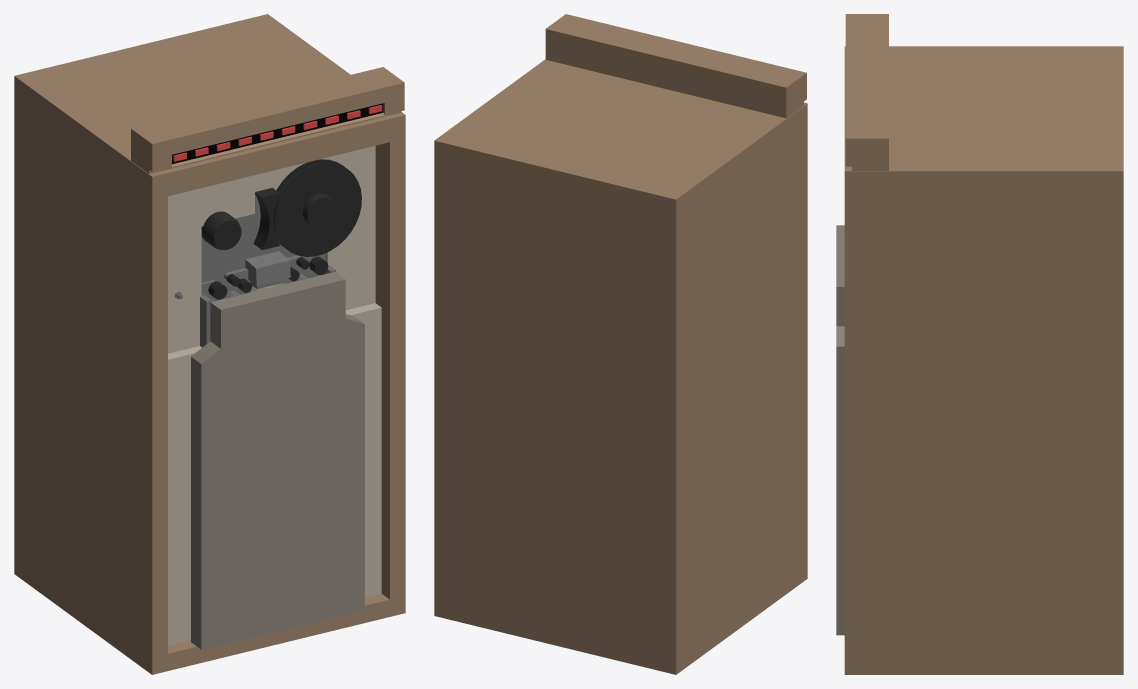
Rendered from Armoire_S_Bobine.glb.
The picture shows the model from 3 angles, left to right: view 1: azimuth 30°, elevation 25°; view 2: azimuth 150°, elevation 25°; view 3: azimuth 270°, elevation 25°; orthographic projection. The views are drawn at different scales.
Visible parts, largest first — view 1: Armoire; view 2: Armoire; view 3: Armoire.
Boxes of the visible parts, x1,y1,x2,y2 form: Armoire: (14, 14, 405, 674); Armoire: (434, 14, 807, 674); Armoire: (836, 14, 1123, 674).
Bounding box in the file's own units: 0.875 × 1.75 × 0.8496.
